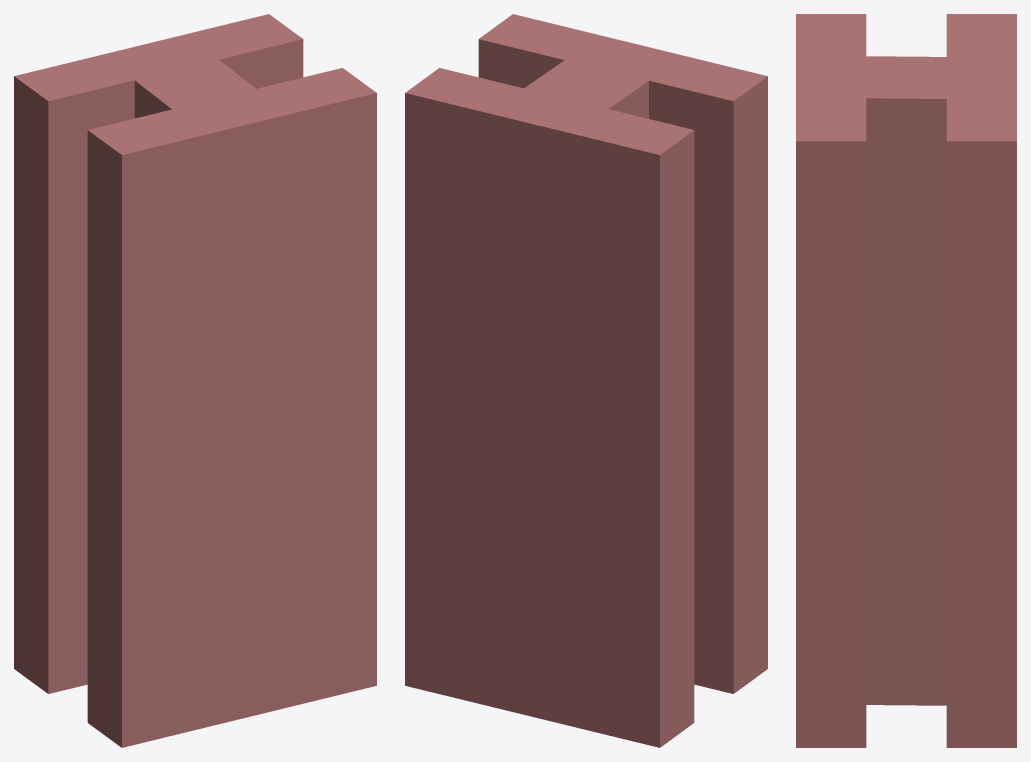
Rendered from building1.fbx.
The picture shows the model from 3 angles, left to right: view 1: azimuth 30°, elevation 25°; view 2: azimuth 150°, elevation 25°; view 3: azimuth 270°, elevation 25°; orthographic projection. The views are drawn at different scales.
Visible parts, largest first — view 1: sandwichbuild2; view 2: sandwichbuild2; view 3: sandwichbuild2.
Part boxes in pixels (x1,y1,x2,y2): sandwichbuild2: (14, 14, 376, 747); sandwichbuild2: (405, 14, 767, 747); sandwichbuild2: (796, 14, 1016, 747).
Bounding box in the file's own units: 18 × 40 × 13.19.
